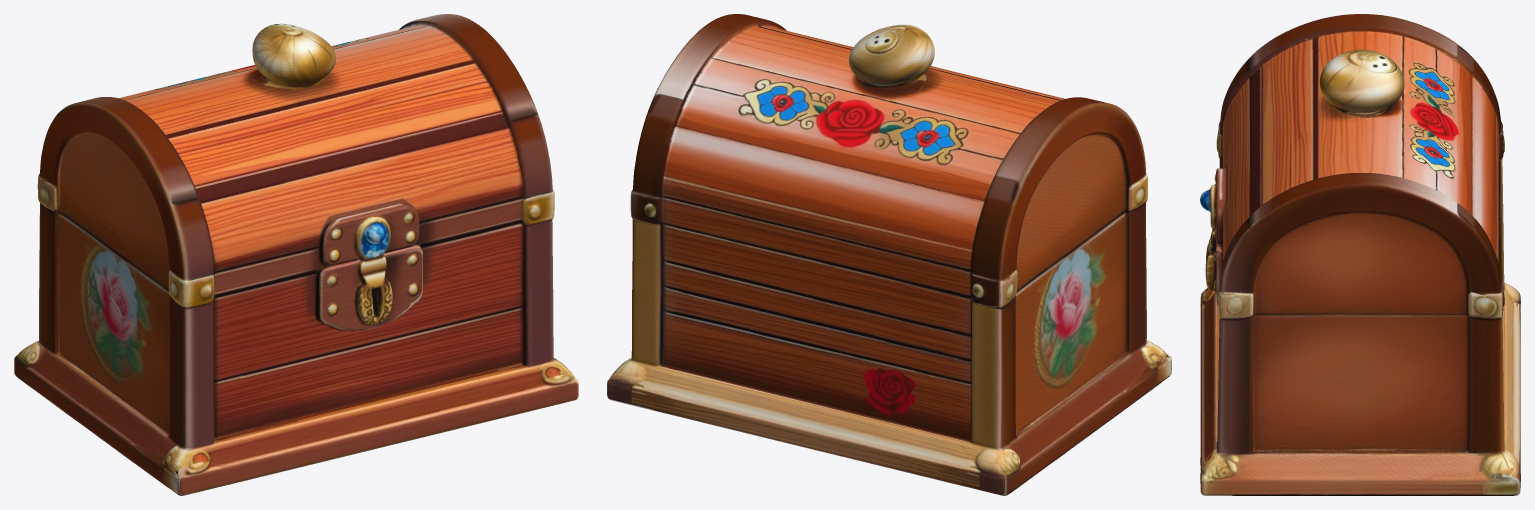
The picture shows the model from 3 angles, left to right: view 1: azimuth 30°, elevation 25°; view 2: azimuth 150°, elevation 25°; view 3: azimuth 270°, elevation 25°; orthographic projection. The views are drawn at different scales.
Parts seen in each view (by area): view 1: Node; view 2: Node; view 3: Node.
Boxes of the visible parts, x1,y1,x2,y2 form: Node: [14, 14, 578, 495]; Node: [607, 14, 1171, 495]; Node: [1200, 14, 1520, 495].
Bounding box in the file's own units: 2 × 1.72 × 1.45.
Materials: 1 (1 with a texture image).
